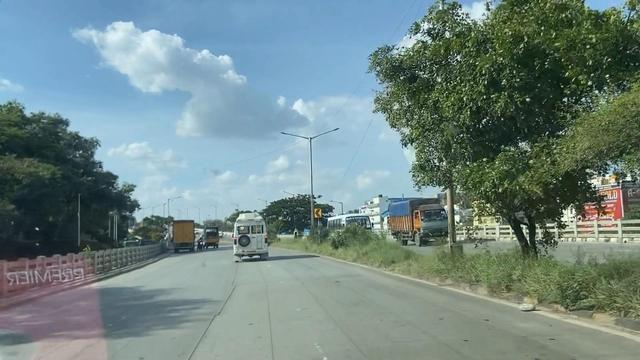HMV: (229, 216, 280, 262), (175, 213, 197, 252)
